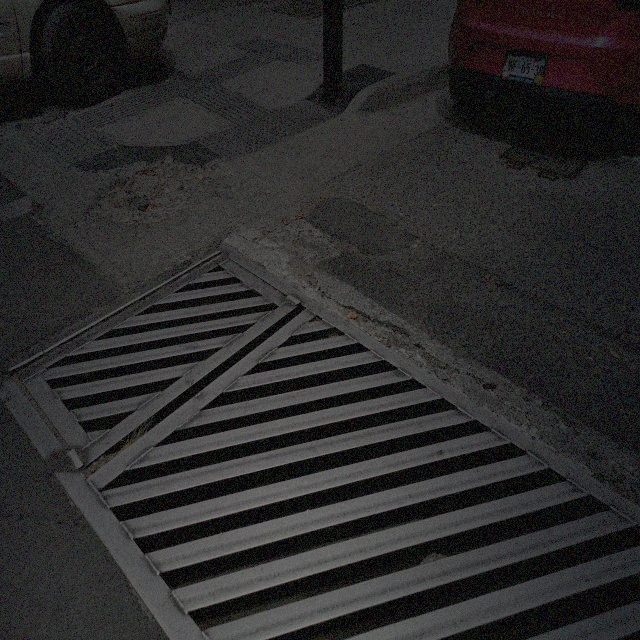pothole: (96, 157, 204, 226), (155, 156, 217, 212), (99, 171, 138, 215)
